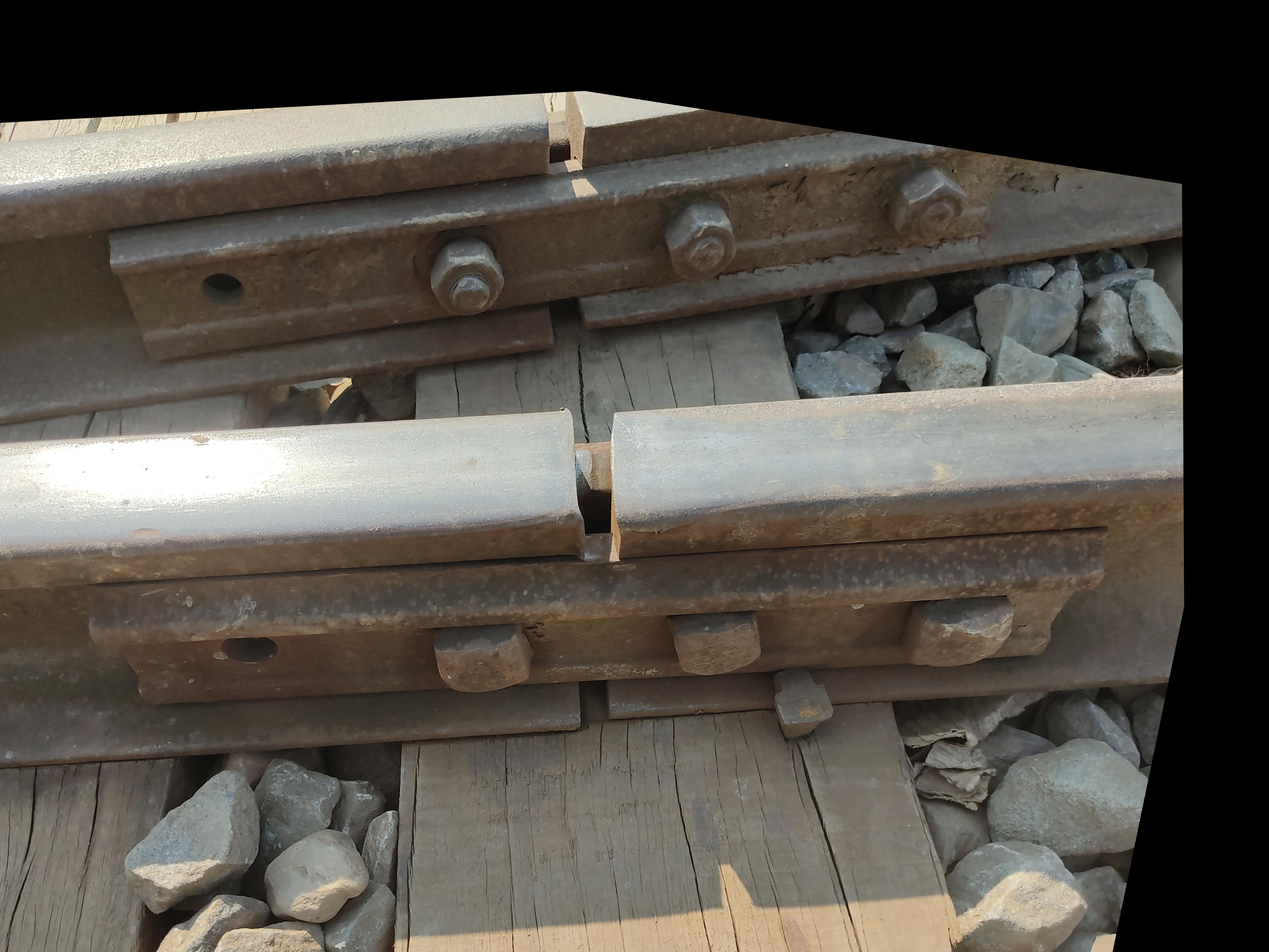person: (389, 481, 621, 707), (386, 181, 532, 306), (452, 747, 582, 862), (417, 362, 534, 478)
